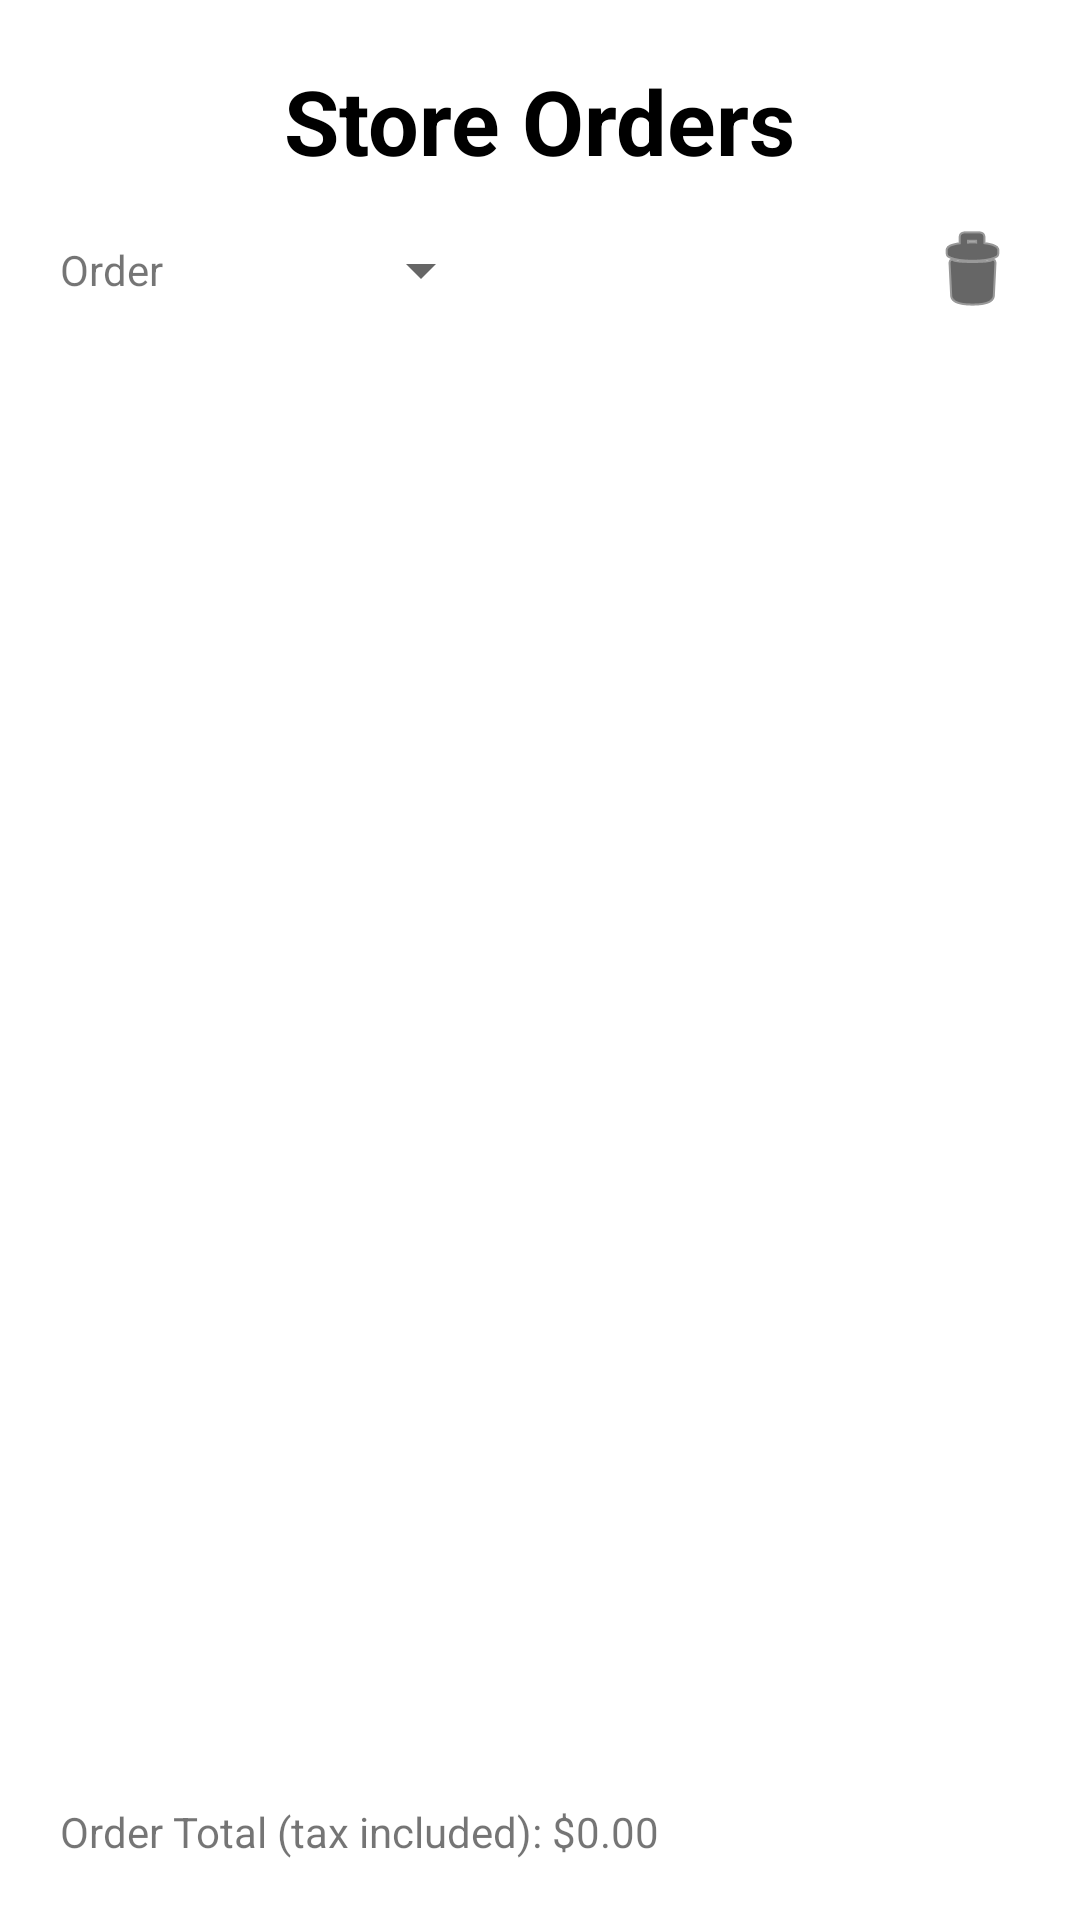

Named icons in this screenshot (1080 x 1920) and their bounding boxes, (x1, y1, x2, y2):
delete: (945, 231, 1000, 306)
